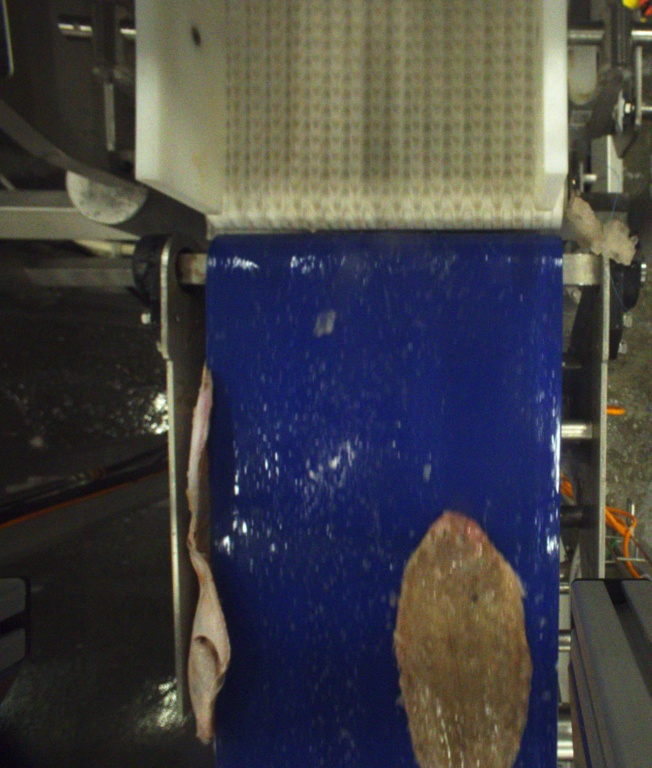SOL: (398, 513, 530, 768)
